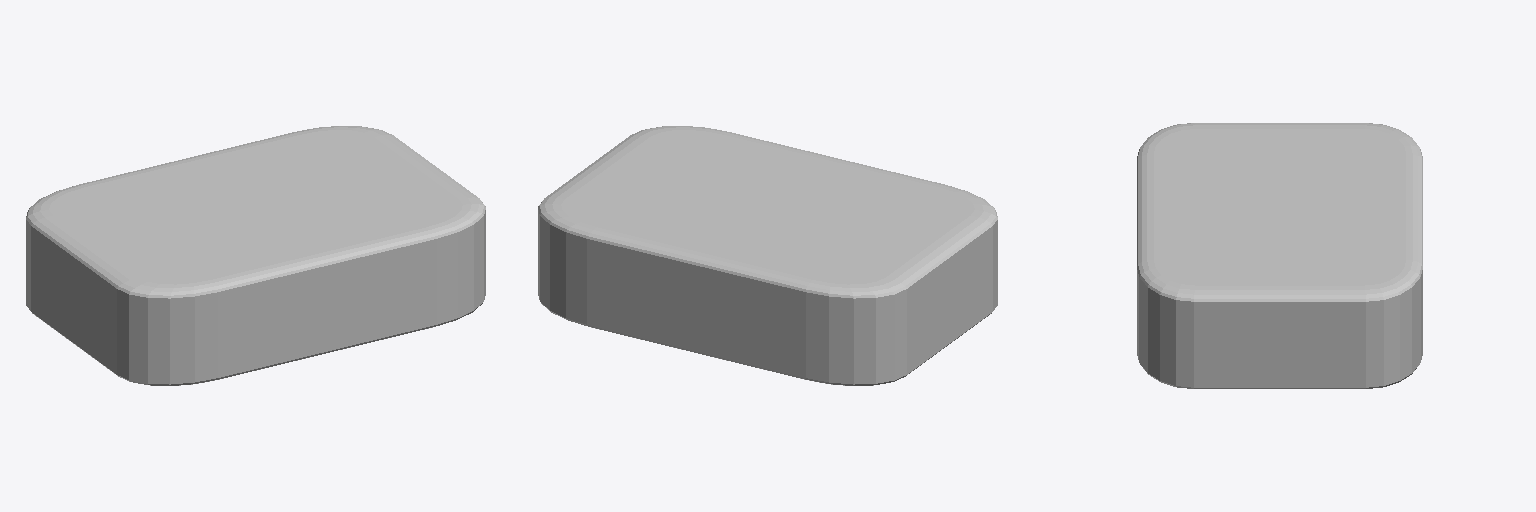
The model's file is chess_bottom.obj.
The picture shows the model from 3 angles: view 1: azimuth 30°, elevation 25°; view 2: azimuth 150°, elevation 25°; view 3: azimuth 270°, elevation 25°; orthographic projection.
Bounding box in the file's own units: 1.92 × 0.4908 × 1.31.